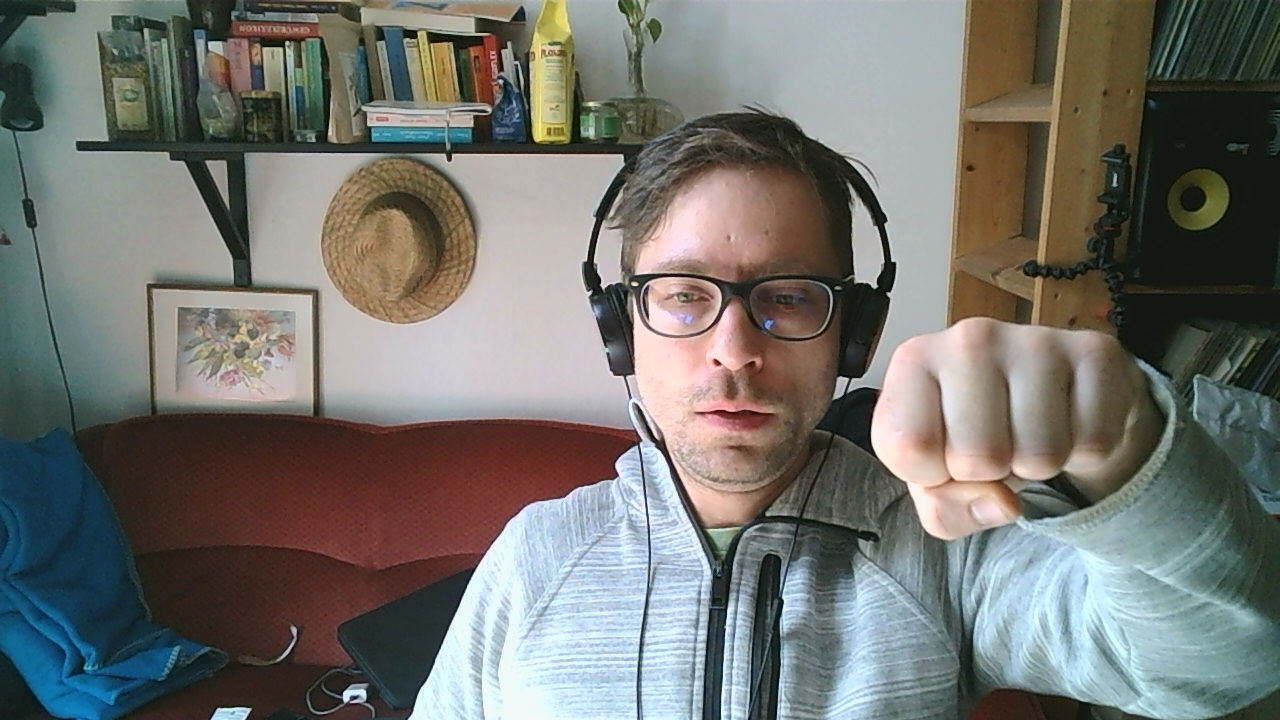yes: (871, 319, 1138, 539)
